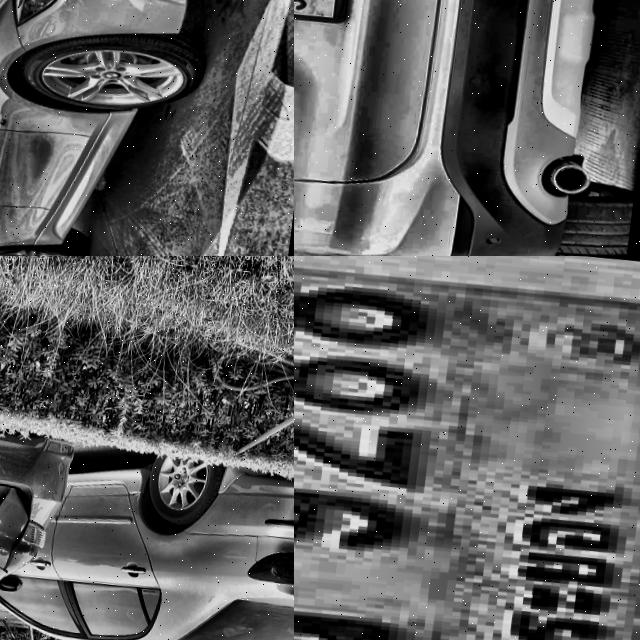license-plate: (294, 256, 640, 640), (253, 425, 294, 499)
